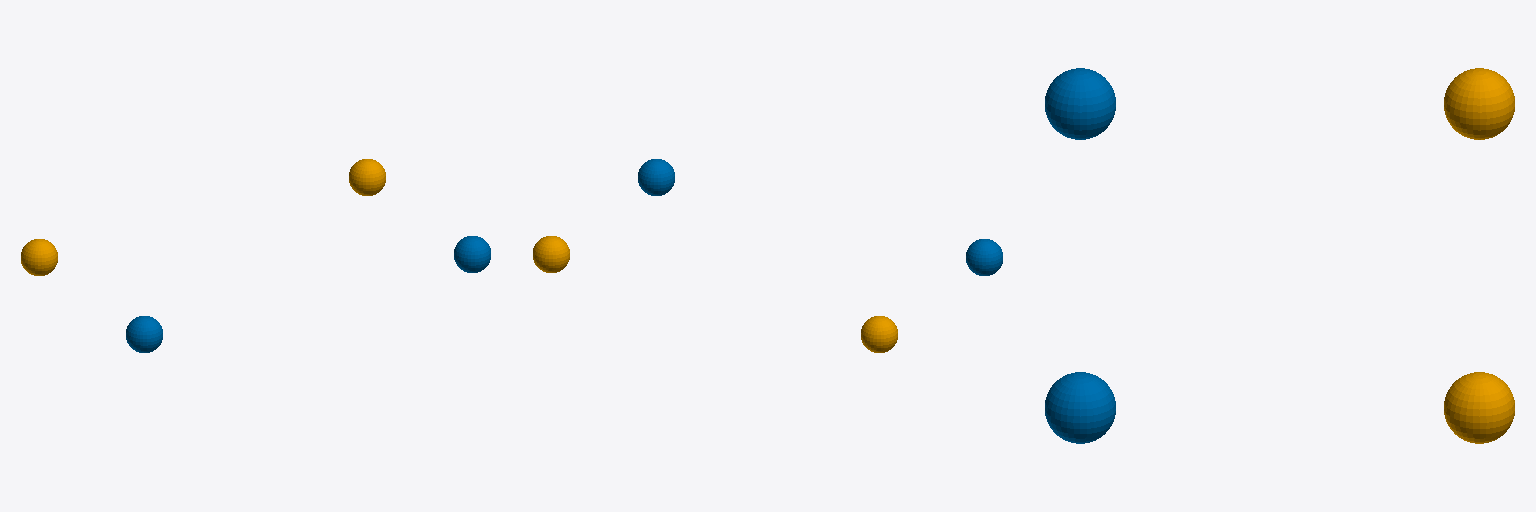
robot.urdf — mini_cheetah:
<?xml version="1.0" ?>
<robot name="mini_cheetah" xmlns:xacro="http://ros.org/wiki/xacro">
    <link name="body">
        <inertial>
            <mass value="5.868"/>
            <origin xyz="0.0 0.0 0.0"/>
            <inertia ixx="0.02000988" ixy="0" ixz="0" iyy="0.075876593" iyz="0" izz="0.085403948"/>
        </inertial>
        <visual>
            <geometry>
                <mesh filename="meshes/mini_body.obj"/>
            </geometry>
            <origin rpy="0.0 0.0 0.0" xyz="0.0 0.0 0.0"/>
        </visual>
        <collision>
            <geometry>
                <box size="0.244 0.18 0.09"/>
            </geometry>
            <origin rpy="0 0 0" xyz="0 0 0"/>
        </collision>
    </link>

    <!--!!!!!!!!!!!! Front Right Leg !!!!!!!!!!!!!!!!!!!!!!!!!!!!!!!!!!!!-->
    <joint name="torso_to_abduct_fr_j" type="revolute">
        <axis xyz="1 0 0"/>
        <origin rpy="0 0 0" xyz="0.2 -0.049 0.0"/>
        <parent link="body"/>
        <child link="abduct_fr"/>
        <limit effort="18" lower="-2.094395102" upper="2.094395102" velocity="40"/>
        <dynamics rotor_inertia="63e-6" damping="0.01"/>
    </joint>
    <link name="abduct_fr">
        <inertial>
            <mass value="0.54"/>
            <origin xyz="0.0 0.036 0."/>
            <inertia ixx="0.000381" ixy="0.000058" ixz="0.00000045"
                iyy="0.000560" iyz="0.00000095" izz="0.000444"/>
        </inertial>
        <visual>
            <geometry>
                <mesh filename="meshes/mini_abad.obj"/>
            </geometry>
            <origin rpy="3.141592 0.0 1.5708" xyz="-0.055 0.0 0.0"/>
        </visual>
        <collision>
            <geometry>
                <cylinder radius="0.048" length="0.022"/>
            </geometry>
            <origin rpy="3.141592 1.5708 0.0" xyz="-0.067 0 0"/>
        </collision>
    </link>

    <joint name="abduct_fr_to_thigh_fr_j" type="revolute">
        <axis xyz="0 -1 0"/>
        <origin rpy="0.0 0.0 0.0" xyz="0.0 -0.062 0.00"/>
        <parent link="abduct_fr"/>
        <child link="thigh_fr"/>
        <limit effort="18" lower="-4.712388" upper="4.712388" velocity="40"/>
        <dynamics rotor_inertia="63e-6" damping="0.01"/>
    </joint>
    <link name="thigh_fr">
        <inertial>
            <mass value="0.634"/>
            <origin xyz="0.0 0.016 -0.02"/>
            <inertia ixx="0.001983" ixy="0.000245" ixz="0.000013"
                iyy="0.002103" iyz="0.0000015" izz="0.000408"/>
        </inertial>
        <visual>
            <geometry>
                <mesh filename="meshes/mini_upper_link.obj"/>
            </geometry>
            <origin rpy="0.0 -1.5708 0.0" xyz="0.0 0.0 0.0"/>
        </visual>
        <collision>
            <geometry>
                <box size="0.025 0.025 0.16"/>
            </geometry>
            <origin rpy="0 0 0" xyz="0 0 -0.105"/>
        </collision>
    </link>

    <joint name="thigh_fr_to_knee_fr_j" type="revolute">
        <axis xyz="0 -1 0"/>
        <origin rpy="0.0 0 0.0" xyz="0.0 0.0 -0.209"/>
        <parent link="thigh_fr"/>
        <child link="shank_fr"/>
        <limit effort="11.6" lower="-2.705259778" upper="2.705259778" velocity="40"/>
    </joint>
    <link name="shank_fr">
        <inertial>
            <mass value="0.064"/>
            <origin xyz="0.0 0.0 -0.061"/>
            <inertia ixx="0.000245" ixy="0" ixz="0.0" iyy="0.000248" iyz="0" izz="0.000006"/>
        </inertial>
        <visual>
            <geometry>
                <mesh filename="meshes/mini_lower_link.obj"/>
            </geometry>
            <origin rpy="0.0 3.141592 0.0" xyz="0.0 0.0 0.0"/>
        </visual>
        <collision>
            <geometry>
                <box size="0.016 0.016 0.18"/>
            </geometry>
            <origin rpy="0 0 0" xyz="0 0 -0.09"/>
        </collision>
    </link>

    <link name="toe_fr">
    <contact>
      <friction_anchor/>
      <stiffness value="30000.0"/>
      <damping value="1000.0"/>
      <spinning_friction value="0.3"/>
      <lateral_friction value="3.0"/>
    </contact>
    <visual>
      <origin rpy="0 0 0" xyz="0 0 0"/>
      <geometry>
        <sphere radius="0.02"/>
      </geometry>
      <material name="darkgray"/>
    </visual>
    <collision>
      <origin rpy="0 0 0" xyz="0 0 0"/>
      <geometry>
        <sphere radius="0.02"/>
      </geometry>
    </collision>
    <inertial>
      <mass value="0.0"/>
      <inertia ixx="0.0" ixy="0" ixz="0" iyy="0.0" iyz="0" izz="0.0"/>
    </inertial>
  </link>
  <joint name="toe_fr_joint" type="fixed">
    <parent link="shank_fr"/>
    <child link="toe_fr"/>
    <origin xyz="0 0 -0.18"/>
    <dynamics damping="0.0" friction="0.0"/>
  </joint>

<!--!!!!!!!!!!!! Front Left Leg !!!!!!!!!!!!!!!!!!!!!!!!!!!!!!!!!!!!-->
    <joint name="torso_to_abduct_fl_j" type="revolute">
        <axis xyz="1 0 0"/>
        <origin rpy="0 0 0" xyz="0.20 0.049 0.0"/>
        <parent link="body"/>
        <child link="abduct_fl"/>
        <limit effort="18" lower="-2.094395102" upper="2.094395102" velocity="40"/>
        <dynamics rotor_inertia="63e-6" damping="0.01"/>
    </joint>
    <link name="abduct_fl">
        <inertial>
            <mass value="0.54"/>
            <origin xyz="0.0 0.036 0."/>
            <inertia ixx="0.000381" ixy="0.000058" ixz="0.00000045"
                iyy="0.000560" iyz="0.00000095" izz="0.000444"/>
        </inertial>
        <visual>
            <geometry>
                <mesh filename="meshes/mini_abad.obj"/>
            </geometry>
            <origin rpy="0. 0. -1.5708" xyz="-0.055 0.0 0.0"/>
        </visual>
        <collision>
            <geometry>
                <cylinder radius="0.048" length="0.022"/>
            </geometry>
            <origin rpy="0 1.5708 0" xyz="-0.067 0 0"/>
        </collision>
    </link>

    <joint name="abduct_fl_to_thigh_fl_j" type="revolute">
        <axis xyz="0 -1 0"/>
        <origin rpy="0.0 0.0 0.0" xyz="0.0 0.062 0.00"/>
        <parent link="abduct_fl"/>
        <child link="thigh_fl"/>
        <limit effort="18" lower="-4.712388" upper="4.712388" velocity="40"/>
        <dynamics rotor_inertia="63e-6" damping="0.01"/>
    </joint>
    <link name="thigh_fl">
        <inertial>
            <mass value="0.634"/>
            <origin xyz="0.0 0.016 -0.02"/>
            <inertia ixx="0.001983" ixy="0.000245" ixz="0.000013"
                iyy="0.002103" iyz="0.0000015" izz="0.000408"/>
        </inertial>
        <visual>
            <geometry>
                <mesh filename="meshes/mini_upper_link.obj"/>
            </geometry>
            <origin rpy="0.0 -1.5708 0.0" xyz="0.0 0.0 0.0"/>
        </visual>
        <collision>
            <geometry>
                <box size="0.025 0.025 0.16"/>
            </geometry>
            <origin rpy="0 0 0" xyz="0 0 -0.105"/>
        </collision>
    </link>

    <joint name="thigh_fl_to_knee_fl_j" type="revolute">
        <axis xyz="0 -1 0"/>
        <origin rpy="0.0 0 0.0" xyz="0.0 0.0 -0.209"/>
        <parent link="thigh_fl"/>
        <child link="shank_fl"/>
        <limit effort="11.6" lower="-2.705259778" upper="2.705259778" velocity="40"/>
    </joint>
    <link name="shank_fl">
        <inertial>
            <mass value="0.064"/>
            <origin xyz="0.0 0.0 -0.061"/>
            <inertia ixx="0.000245" ixy="0" ixz="0.0" iyy="0.000248" iyz="0" izz="0.000006"/>
        </inertial>
        <visual>
            <geometry>
                <mesh filename="meshes/mini_lower_link.obj"/>
            </geometry>
            <origin rpy="0.0 3.141592 0.0" xyz="0.0 0.0 0.0"/>
        </visual>
        <collision>
            <geometry>
                <box size="0.016 0.016 0.18"/>
            </geometry>
            <origin rpy="0 3.141592 0" xyz="0 0 -0.09"/>
        </collision>
    </link>
    <link name="toe_fl">
      <contact>
      <friction_anchor/>
      <stiffness value="30000.0"/>
      <damping value="1000.0"/>
      <spinning_friction value="0.3"/>
      <lateral_friction value="3.0"/>
    </contact>
    <visual>
      <origin rpy="0 0 0" xyz="0 0 0"/>
      <geometry>
        <sphere radius="0.02"/>
      </geometry>
      <material name="darkgray"/>
    </visual>
    <collision>
      <origin rpy="0 0 0" xyz="0 0 0"/>
      <geometry>
        <sphere radius="0.02"/>
      </geometry>
    </collision>
    <inertial>
      <mass value="0.0"/>
      <inertia ixx="0.0" ixy="0" ixz="0" iyy="0.0" iyz="0" izz="0.0"/>
    </inertial>
  </link>
  <joint name="toe_fl_joint" type="fixed">
    <parent link="shank_fl"/>
    <child link="toe_fl"/>
    <origin xyz="0 0 -0.18"/>
    <dynamics damping="0.0" friction="0.0"/>
  </joint>


<!--!!!!!!!!!!!! Hind Right Leg !!!!!!!!!!!!!!!!!!!!!!!!!!!!!!!!!!!!-->
    <joint name="torso_to_abduct_hr_j" type="revolute">
        <axis xyz="1 0 0"/>
        <origin rpy="0 0 0" xyz="-0.2 -0.049 0.0"/>
        <parent link="body"/>
        <child link="abduct_hr"/>
        <limit effort="18" lower="-2.094395102" upper="2.094395102" velocity="40"/>
        <dynamics rotor_inertia="63e-6" damping="0.01"/>
    </joint>
    <link name="abduct_hr">
        <inertial>
            <mass value="0.54"/>
            <origin xyz="0.0 0.036 0."/>
            <inertia ixx="0.000381" ixy="0.000058" ixz="0.00000045"
                iyy="0.000560" iyz="0.00000095" izz="0.000444"/>
        </inertial>
        <visual>
            <geometry>
                <mesh filename="meshes/mini_abad.obj"/>
            </geometry>
            <origin rpy="0.0 0.0 1.5708" xyz="0.055 0.0 0.0"/>
        </visual>
        <collision>
            <geometry>
                <cylinder radius="0.048" length="0.022"/>
            </geometry>
            <origin rpy="0 -1.5708 0" xyz="0.067 0 0"/>
        </collision>
    </link>

    <joint name="abduct_hr_to_thigh_hr_j" type="revolute">
        <axis xyz="0 -1 0"/>
        <origin rpy="0.0 0.0 0.0" xyz="0.0 -0.062 0.00"/>
        <parent link="abduct_hr"/>
        <child link="thigh_hr"/>
        <limit effort="18" lower="-4.712388" upper="4.712388" velocity="40"/>
        <dynamics rotor_inertia="63e-6" damping="0.01"/>
    </joint>
    <link name="thigh_hr">
        <inertial>
            <mass value="0.634"/>
            <origin xyz="0.0 0.016 -0.02"/>
            <inertia ixx="0.001983" ixy="0.000245" ixz="0.000013"
                iyy="0.002103" iyz="0.0000015" izz="0.000408"/>
        </inertial>
        <visual>
            <geometry>
                <mesh filename="meshes/mini_upper_link.obj"/>
            </geometry>
            <origin rpy="0.0 -1.5708 0.0" xyz="0.0 0.0 0.0"/>
        </visual>
        <collision>
            <geometry>
                <box size="0.025 0.025 0.16"/>
            </geometry>
            <origin rpy="0 0 0" xyz="0 0 -0.105"/>
        </collision>
    </link>

    <joint name="thigh_hr_to_knee_hr_j" type="revolute">
        <axis xyz="0 -1 0"/>
        <origin rpy="0.0 0 0.0" xyz="0.0 0.0 -0.209"/>
        <parent link="thigh_hr"/>
        <child link="shank_hr"/>
        <limit effort="11.6" lower="-2.705259778" upper="2.705259778" velocity="40"/>
    </joint>
    <link name="shank_hr">
        <inertial>
            <mass value="0.064"/>
            <origin xyz="0.0 0.0 -0.061"/>
            <inertia ixx="0.000245" ixy="0" ixz="0.0" iyy="0.000248" iyz="0" izz="0.000006"/>
        </inertial>
        <visual>
            <geometry>
                <mesh filename="meshes/mini_lower_link.obj"/>
            </geometry>
            <origin rpy="0.0 3.141592 0.0" xyz="0.0 0.0 0.0"/>
        </visual>
        <collision>
            <geometry>
                <box size="0.016 0.016 0.18"/>
            </geometry>
            <origin rpy="0 3.141592 0" xyz="0 0 -0.09"/>
        </collision>
    </link>
     <link name="toe_hr">
      <contact>
      <friction_anchor/>
      <stiffness value="30000.0"/>
      <damping value="1000.0"/>
      <spinning_friction value="0.3"/>
      <lateral_friction value="3.0"/>
    </contact>
    <visual>
      <origin rpy="0 0 0" xyz="0 0 0"/>
      <geometry>
        <sphere radius="0.02"/>
      </geometry>
      <material name="darkgray"/>
    </visual>
    <collision>
      <origin rpy="0 0 0" xyz="0 0 0"/>
      <geometry>
        <sphere radius="0.02"/>
      </geometry>
    </collision>
    <inertial>
      <mass value="0.0"/>
      <inertia ixx="0.0" ixy="0" ixz="0" iyy="0.0" iyz="0" izz="0.0"/>
    </inertial>
  </link>
  <joint name="toe_hr_joint" type="fixed">
    <parent link="shank_hr"/>
    <child link="toe_hr"/>
    <origin xyz="0 0 -0.18"/>
    <dynamics damping="0.0" friction="0.0"/>
  </joint>


<!--!!!!!!!!!!!! Hind Left Leg !!!!!!!!!!!!!!!!!!!!!!!!!!!!!!!!!!!!-->
    <joint name="torso_to_abduct_hl_j" type="revolute">
        <axis xyz="1 0 0"/>
        <origin rpy="0 0 0" xyz="-0.2 0.049 0.0"/>
        <parent link="body"/>
        <child link="abduct_hl"/>
        <limit effort="18" lower="-2.094395102" upper="2.094395102" velocity="40"/>
        <dynamics rotor_inertia="63e-6" damping="0.01"/>
    </joint>
    <link name="abduct_hl">
        <inertial>
            <mass value="0.54"/>
            <origin xyz="0.0 0.036 0."/>
            <inertia ixx="0.000381" ixy="0.000058" ixz="0.00000045"
                iyy="0.000560" iyz="0.00000095" izz="0.000444"/>
        </inertial>
        <visual>
            <geometry>
                <mesh filename="meshes/mini_abad.obj"/>
            </geometry>
            <origin rpy="3.141592 0.0 -1.5708" xyz="0.055 0.0 0.0"/>
        </visual>
        <collision>
            <geometry>
                <cylinder radius="0.048" length="0.022"/>
            </geometry>
            <origin rpy="3.141592 -1.5708 0" xyz="0.067 0 0"/>
        </collision>
    </link>

    <joint name="abduct_hl_to_thigh_hl_j" type="revolute">
        <axis xyz="0 -1 0"/>
        <origin rpy="0.0 0.0 0.0" xyz="0.0 0.062 0.00"/>
        <parent link="abduct_hl"/>
        <child link="thigh_hl"/>
        <limit effort="18" lower="-4.712388" upper="4.712388" velocity="40"/>
        <dynamics rotor_inertia="63e-6" damping="0.01"/>
        </joint>
    <link name="thigh_hl">
        <inertial>
            <mass value="0.634"/>
            <origin xyz="0.0 0.016 -0.02"/>
            <inertia ixx="0.001983" ixy="0.000245" ixz="0.000013"
                iyy="0.002103" iyz="0.0000015" izz="0.000408"/>
        </inertial>
        <visual>
            <geometry>
                <mesh filename="meshes/mini_upper_link.obj"/>
            </geometry>
            <origin rpy="0.0 -1.5708 0.0" xyz="0.0 0.0 0.0"/>
        </visual>
        <collision>
            <geometry>
                <box size="0.025 0.025 0.16"/>
            </geometry>
            <origin rpy="0 0 0" xyz="0 0 -0.105"/>
        </collision>
    </link>

    <joint name="thigh_hl_to_knee_hl_j" type="revolute">
        <axis xyz="0 -1 0"/>
        <origin rpy="0.0 0 0.0" xyz="0.0 0.0 -0.209"/>
        <parent link="thigh_hl"/>
        <child link="shank_hl"/>
        <limit effort="11.6" lower="-2.705259778" upper="2.705259778" velocity="40"/>
    </joint>
    <link name="shank_hl">
        <inertial>
            <mass value="0.064"/>
            <origin xyz="0.0 0.0 -0.061"/>
            <inertia ixx="0.000245" ixy="0" ixz="0.0" iyy="0.000248" iyz="0" izz="0.000006"/>
        </inertial>
        <visual>
            <geometry>
                <mesh filename="meshes/mini_lower_link.obj"/>
            </geometry>
            <origin rpy="0.0 3.141592 0.0" xyz="0.0 0.0 0.0"/>
        </visual>
        <collision>
            <geometry>
                <box size="0.016 0.016 0.18"/>
            </geometry>
            <origin rpy="0 3.141592 0" xyz="0 0 -0.09"/>
        </collision>
    </link>
    <link name="toe_hl">
      <contact>
      <friction_anchor/>
      <stiffness value="30000.0"/>
      <damping value="1000.0"/>
      <spinning_friction value="0.3"/>
      <lateral_friction value="3.0"/>
    </contact>
    <visual>
      <origin rpy="0 0 0" xyz="0 0 0"/>
      <geometry>
        <sphere radius="0.02"/>
      </geometry>
      <material name="darkgray"/>
    </visual>
    <collision>
      <origin rpy="0 0 0" xyz="0 0 0"/>
      <geometry>
        <sphere radius="0.02"/>
      </geometry>
    </collision>
    <inertial>
      <mass value="0.0"/>
      <inertia ixx="0.0" ixy="0" ixz="0" iyy="0.0" iyz="0" izz="0.0"/>
    </inertial>
  </link>
  <joint name="toe_hl_joint" type="fixed">
    <parent link="shank_hl"/>
    <child link="toe_hl"/>
    <origin xyz="0 0 -0.18"/>
    <dynamics damping="0.0" friction="0.0"/>
  </joint>

</robot>

--- Render facts (derived) ---
The picture shows the robot from 3 angles, left to right: view 1: azimuth 30°, elevation 25°; view 2: azimuth 150°, elevation 25°; view 3: azimuth 270°, elevation 25°; orthographic projection.
Model mini_cheetah with 17 links and 16 joints (12 revolute, 4 fixed), rooted at body, posed every joint at zero.
Links seen in each view (by area): view 1: toe_fr, toe_hl, toe_fl, toe_hr; view 2: toe_fl, toe_hr, toe_fr, toe_hl; view 3: toe_fr, toe_fl, toe_hr, toe_hl.
Boxes of the visible links, left/top/right/bottom form: toe_fr: left=454, top=236, right=490, bottom=272; toe_hl: left=21, top=239, right=57, bottom=275; toe_fl: left=349, top=159, right=385, bottom=195; toe_hr: left=126, top=316, right=162, bottom=352; toe_fl: left=533, top=236, right=569, bottom=272; toe_hr: left=966, top=239, right=1002, bottom=275; toe_fr: left=638, top=159, right=674, bottom=195; toe_hl: left=861, top=316, right=897, bottom=352; toe_fr: left=1045, top=372, right=1115, bottom=443; toe_fl: left=1444, top=372, right=1514, bottom=443; toe_hr: left=1045, top=68, right=1115, bottom=139; toe_hl: left=1444, top=68, right=1514, bottom=139.
Bounding box of the posed robot: 0.44 × 0.262 × 0.04 m (x, y, z).
0 mesh visuals loaded from 4 distinct referenced files (none loaded); not drawn: 13 (reference not matched to a file when rendering).